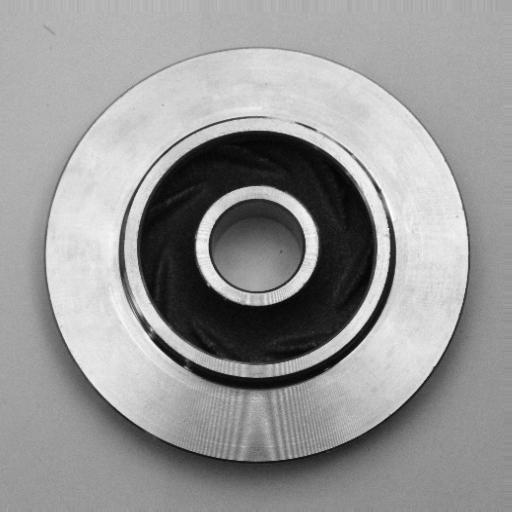unpolished_casting: (45, 44, 472, 470)
